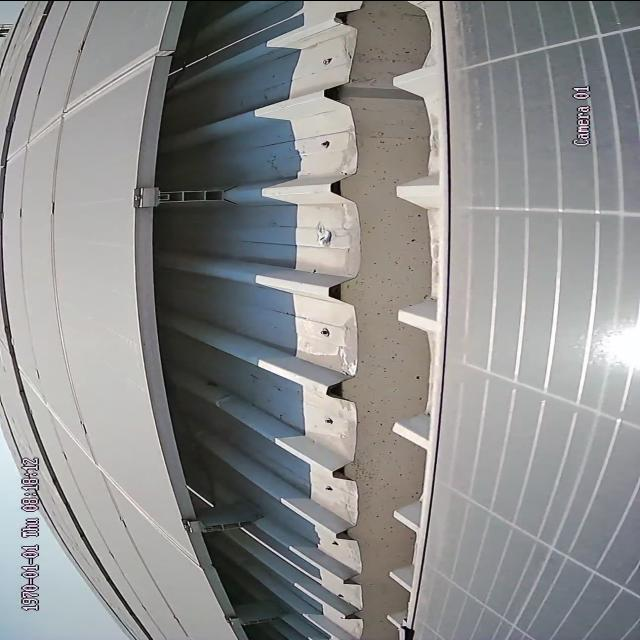interior panel: (25, 377, 198, 567), (11, 43, 156, 161)
outher panel: (137, 0, 444, 640)
